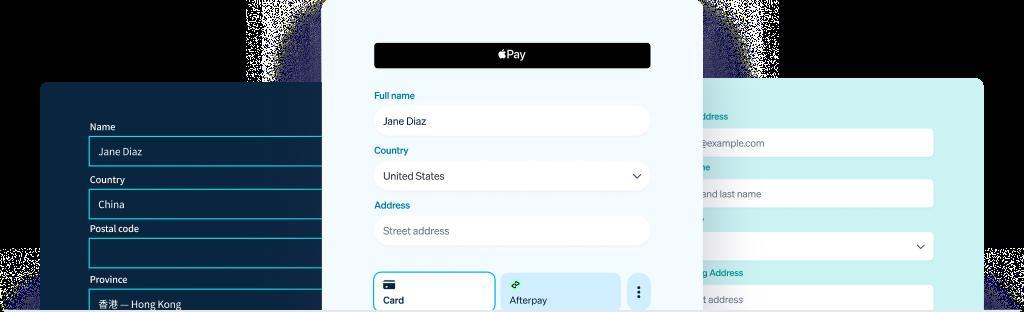button: (374, 42, 653, 69), (374, 273, 497, 312), (502, 273, 621, 312)
dropdown: (374, 160, 652, 193), (704, 234, 934, 261)
icon: (633, 284, 648, 305)
input: (374, 216, 652, 248), (375, 108, 651, 137), (90, 137, 323, 168), (91, 239, 323, 270), (90, 190, 323, 220), (704, 179, 935, 209), (704, 130, 934, 158), (704, 286, 934, 312), (91, 290, 322, 312)
label: (90, 223, 142, 238), (91, 173, 128, 187), (92, 275, 130, 288), (373, 91, 417, 102), (373, 200, 412, 212), (373, 146, 411, 157), (89, 124, 119, 134)
